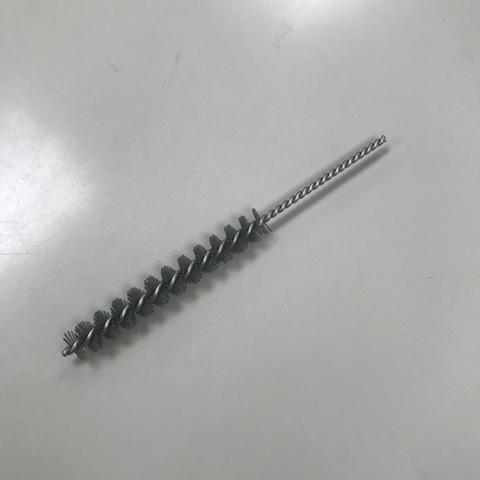Twist Brush-A: (60, 134, 389, 364)
